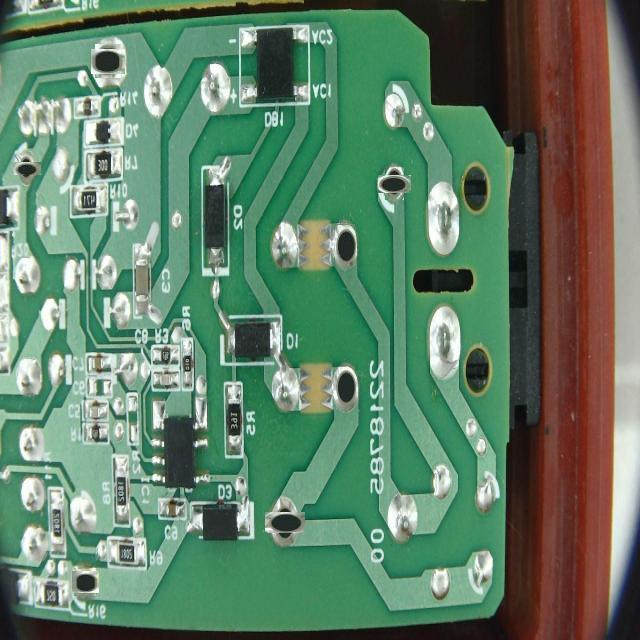damged: (270, 506, 300, 538), (334, 224, 356, 267), (335, 368, 359, 407), (93, 46, 123, 76), (381, 170, 408, 197), (72, 569, 98, 595), (16, 158, 38, 178)
